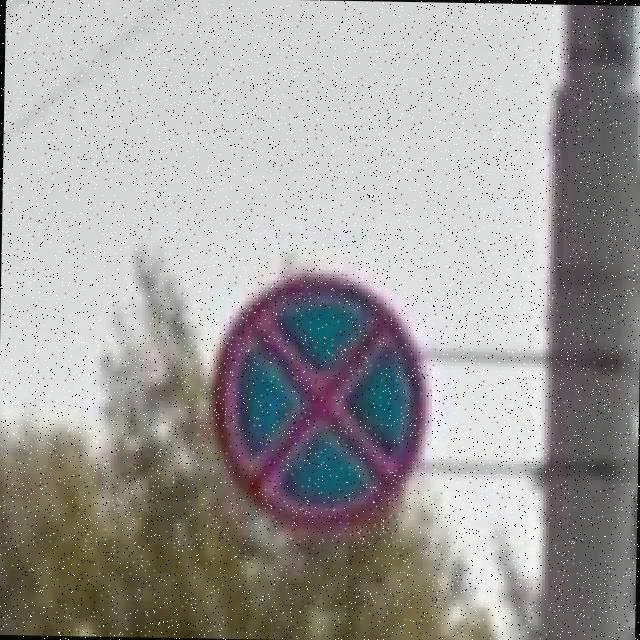Zakaz zatrzymywania sie: (207, 271, 430, 534)
